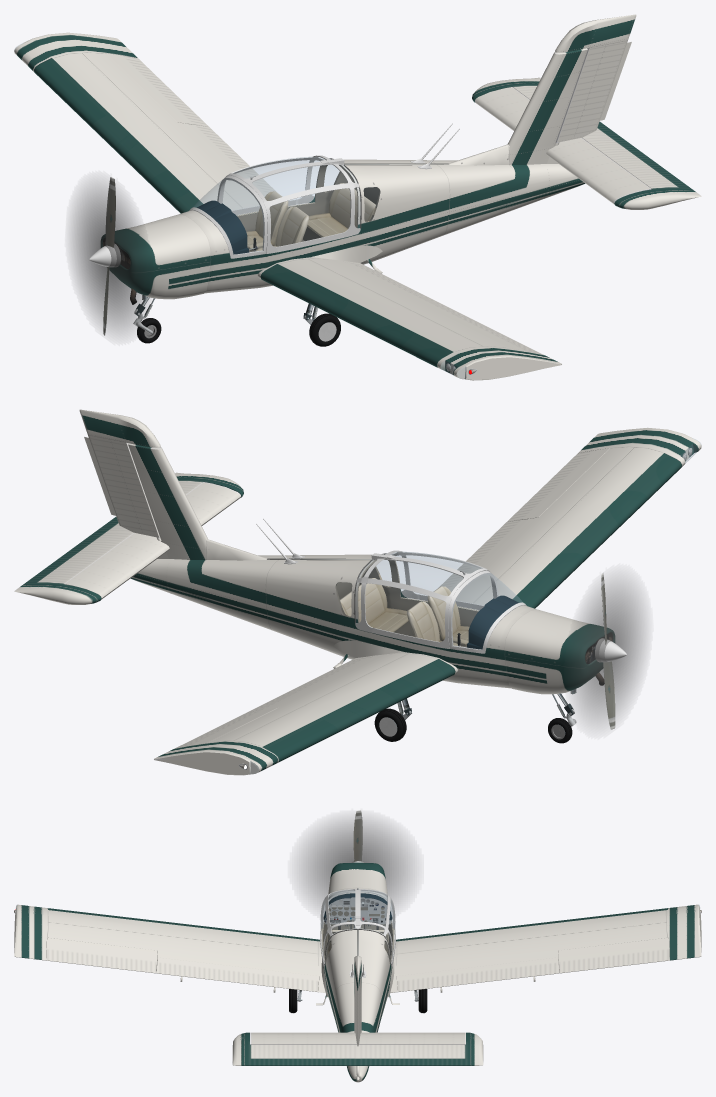
3 renders of one model, top to bottom at view 1: azimuth 30°, elevation 25°; view 2: azimuth 150°, elevation 25°; view 3: azimuth 270°, elevation 25°, orthographic. The views are drawn at different scales.
Parts seen in each view (by area): view 1: fuselage, wing, PropDisc, canopy-plexi, vstab, interior, right-slat, fuselage.011, hstab, left-slat, canopy-back, owiewka_przod (+9 smaller); view 2: fuselage, wing, PropDisc, canopy-plexi, vstab, interior, left-slat, fuselage.011, hstab, right-slat, canopy-back, owiewka_przod (+9 smaller); view 3: wing, fuselage, PropDisc, hstab, fuselage.011, left-flap, right-flap, left-aileron, right-aileron, canopy-plexi, canopy-back, interior (+5 smaller).
Boxes of the visible parts, x1,y1,x2,y2 form: fuselage: (101, 48, 587, 299); wing: (14, 32, 561, 380); PropDisc: (69, 179, 149, 336); canopy-plexi: (223, 157, 359, 246); vstab: (555, 14, 636, 142); interior: (237, 165, 380, 252); right-slat: (34, 58, 202, 213); fuselage.011: (474, 87, 651, 204); hstab: (472, 77, 701, 209); left-slat: (260, 264, 453, 367); canopy-back: (221, 155, 360, 253); owiewka_przod: (193, 178, 263, 253); fuselage: (128, 443, 614, 694); wing: (154, 427, 701, 775); PropDisc: (568, 572, 648, 730); canopy-plexi: (356, 552, 492, 641); vstab: (79, 409, 160, 537); interior: (335, 560, 478, 647); left-slat: (512, 453, 681, 608); fuselage.011: (64, 482, 241, 599); hstab: (14, 472, 243, 604); right-slat: (262, 659, 455, 762); canopy-back: (355, 550, 494, 648); owiewka_przod: (452, 573, 522, 648); wing: (14, 904, 701, 992); fuselage: (322, 862, 392, 1082); PropDisc: (295, 815, 416, 911); hstab: (232, 1032, 483, 1065); fuselage.011: (250, 1032, 465, 1044); left-flap: (156, 955, 318, 991); right-flap: (397, 954, 559, 991); left-aileron: (46, 937, 157, 973); right-aileron: (558, 937, 669, 973); canopy-plexi: (321, 890, 394, 959); canopy-back: (320, 889, 395, 966); interior: (321, 907, 394, 964).
Size of the model in its own units: 6.9 by 2.63 by 9.74.
